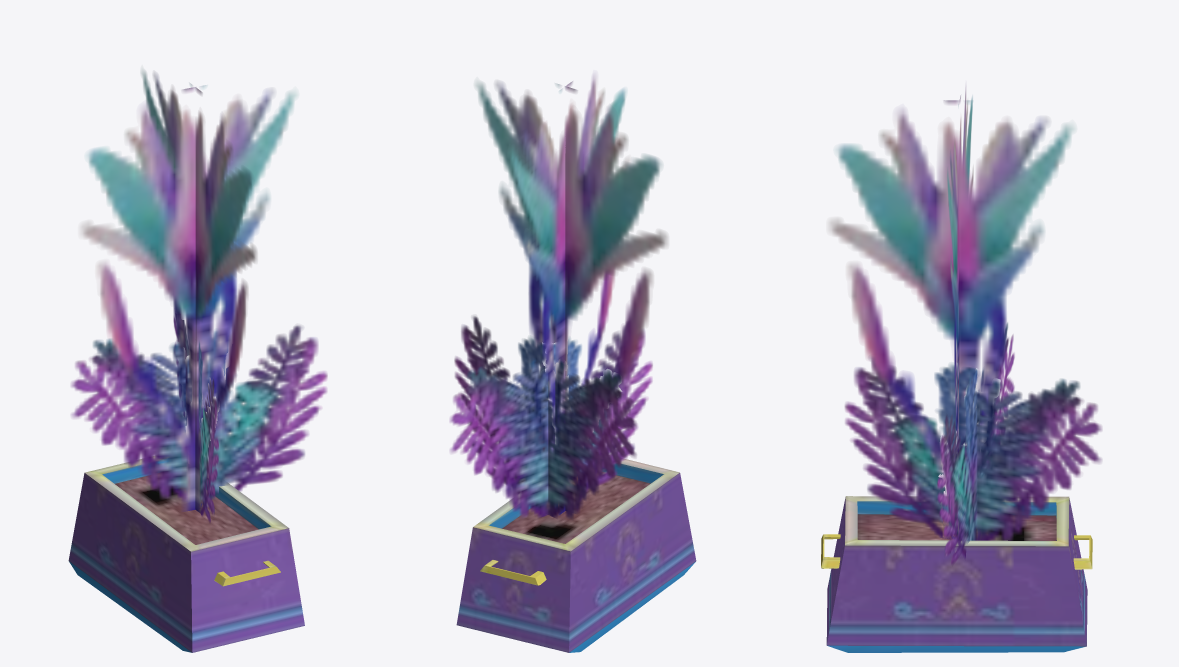
Rendered from Pot_Vapor_02.glb.
The picture shows the model from 3 angles, left to right: view 1: azimuth 30°, elevation 25°; view 2: azimuth 150°, elevation 25°; view 3: azimuth 270°, elevation 25°; orthographic projection. The views are drawn at different scales.
Visible parts, largest first — view 1: Pot_Vapor_02; view 2: Pot_Vapor_02; view 3: Pot_Vapor_02.
Part boxes in pixels (x1=…): Pot_Vapor_02: x1=68, y1=69, x2=327, y2=652; Pot_Vapor_02: x1=449, y1=74, x2=696, y2=652; Pot_Vapor_02: x1=821, y1=87, x2=1101, y2=652.
Bounding box in the file's own units: 2.09 × 2.99 × 2.1.
2 materials, 2 textured.
